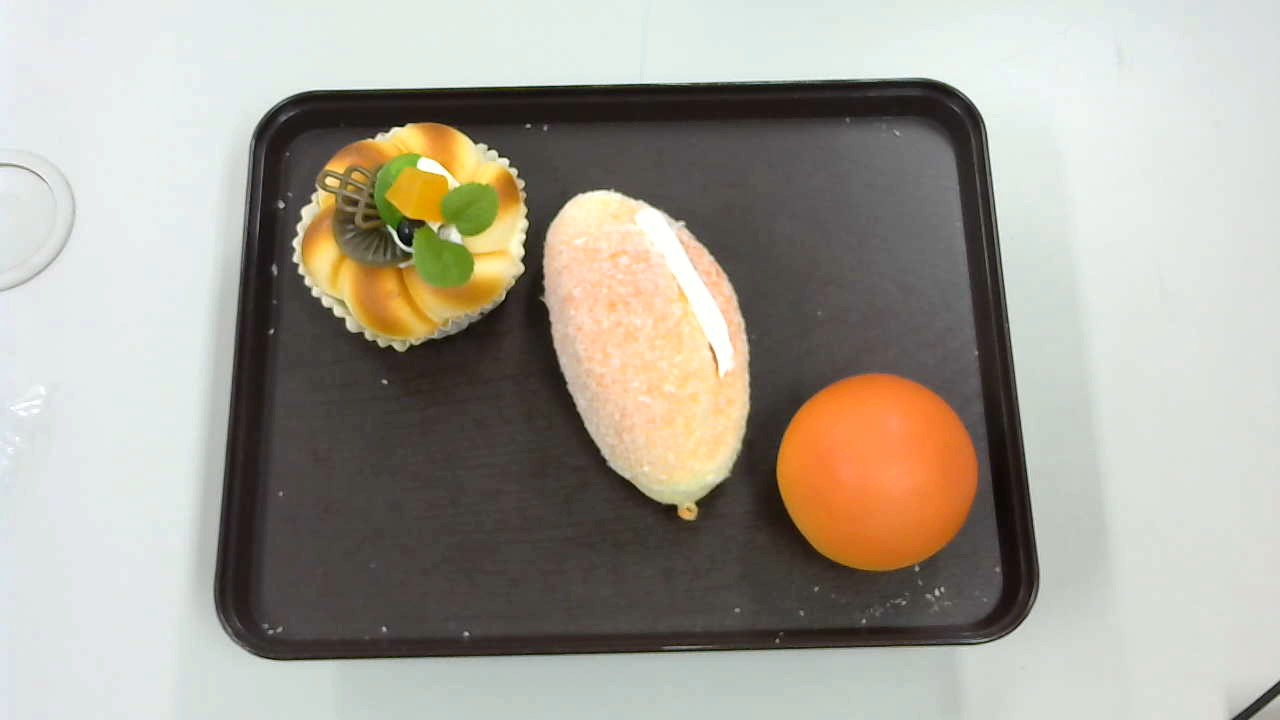bun: (777, 369, 979, 574)
coconut: (542, 188, 752, 523)
fruit tart: (292, 122, 529, 351)
